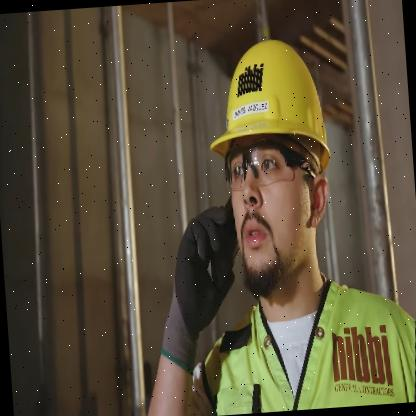capacete: (203, 31, 336, 179)
oculos: (219, 134, 320, 196)
